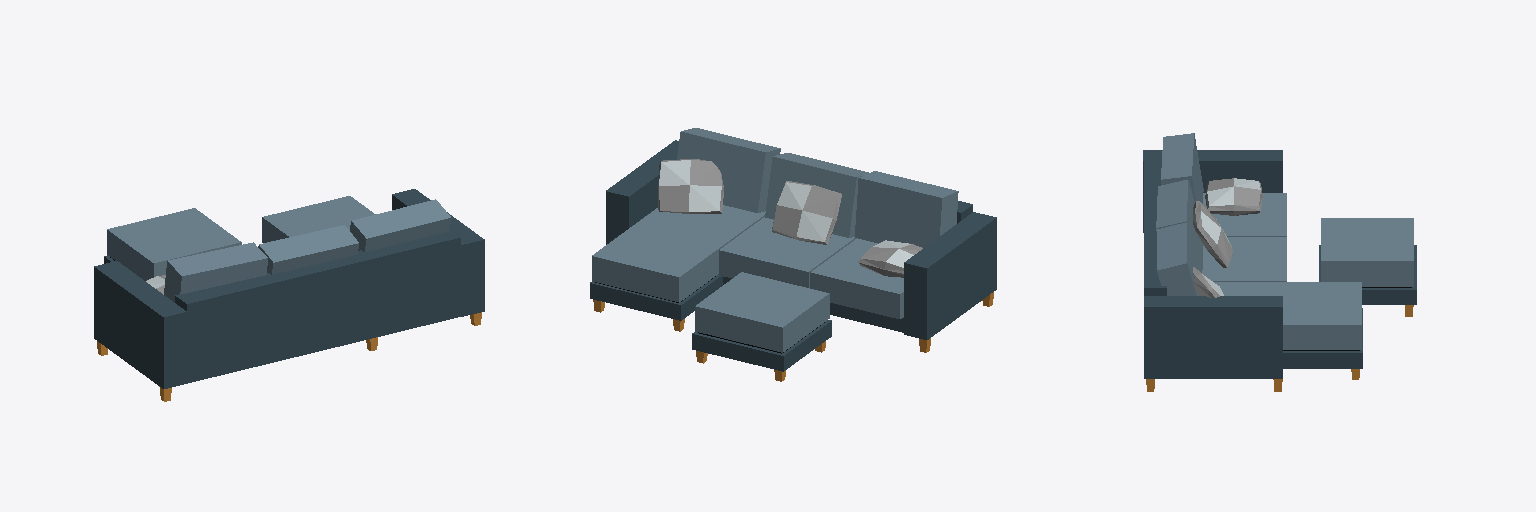
3 renders of one model, left to right at view 1: azimuth 30°, elevation 25°; view 2: azimuth 150°, elevation 25°; view 3: azimuth 270°, elevation 25°, orthographic.
Parts seen in each view (by area): view 1: group[number redacted], group[number redacted], group[number redacted], group[number redacted], group[number redacted], group[number redacted], group[number redacted], group[number redacted]; view 2: group[number redacted], group[number redacted], group[number redacted], group[number redacted], group[number redacted], group[number redacted], group[number redacted], group[number redacted], group[number redacted], group[number redacted], group[number redacted], group[number redacted] (+2 smaller); view 3: group[number redacted], group[number redacted], group[number redacted], group[number redacted], group[number redacted], group[number redacted], group[number redacted], group[number redacted], group[number redacted], group[number redacted], group[number redacted], group[number redacted] (+1 smaller).
Part boxes in pixels (bbox=[...]): group[number redacted]: bbox=[175, 230, 460, 383]; group[number redacted]: bbox=[94, 261, 186, 388]; group[number redacted]: bbox=[104, 208, 241, 280]; group[number redacted]: bbox=[164, 242, 267, 302]; group[number redacted]: bbox=[350, 199, 450, 252]; group[number redacted]: bbox=[258, 225, 358, 274]; group[number redacted]: bbox=[262, 196, 375, 242]; group[number redacted]: bbox=[392, 189, 484, 316]; group[number redacted]: bbox=[692, 272, 831, 381]; group[number redacted]: bbox=[592, 205, 765, 302]; group[number redacted]: bbox=[904, 212, 996, 339]; group[number redacted]: bbox=[855, 171, 958, 247]; group[number redacted]: bbox=[719, 217, 856, 287]; group[number redacted]: bbox=[677, 128, 780, 212]; group[number redacted]: bbox=[810, 238, 903, 318]; group[number redacted]: bbox=[765, 153, 868, 237]; group[number redacted]: bbox=[658, 159, 723, 213]; group[number redacted]: bbox=[772, 181, 841, 244]; group[number redacted]: bbox=[606, 140, 678, 244]; group[number redacted]: bbox=[590, 274, 722, 320]; group[number redacted]: bbox=[1144, 296, 1282, 378]; group[number redacted]: bbox=[1319, 218, 1416, 316]; group[number redacted]: bbox=[1214, 282, 1361, 349]; group[number redacted]: bbox=[1202, 237, 1286, 281]; group[number redacted]: bbox=[1143, 150, 1282, 232]; group[number redacted]: bbox=[1156, 222, 1200, 295]; group[number redacted]: bbox=[1144, 154, 1166, 295]; group[number redacted]: bbox=[1203, 193, 1286, 236]; group[number redacted]: bbox=[1161, 133, 1203, 203]; group[number redacted]: bbox=[1205, 178, 1262, 215]; group[number redacted]: bbox=[1156, 180, 1203, 272]; group[number redacted]: bbox=[1283, 308, 1362, 368].
Bounding box in the file's own units: 1.86 × 0.6507 × 1.37.